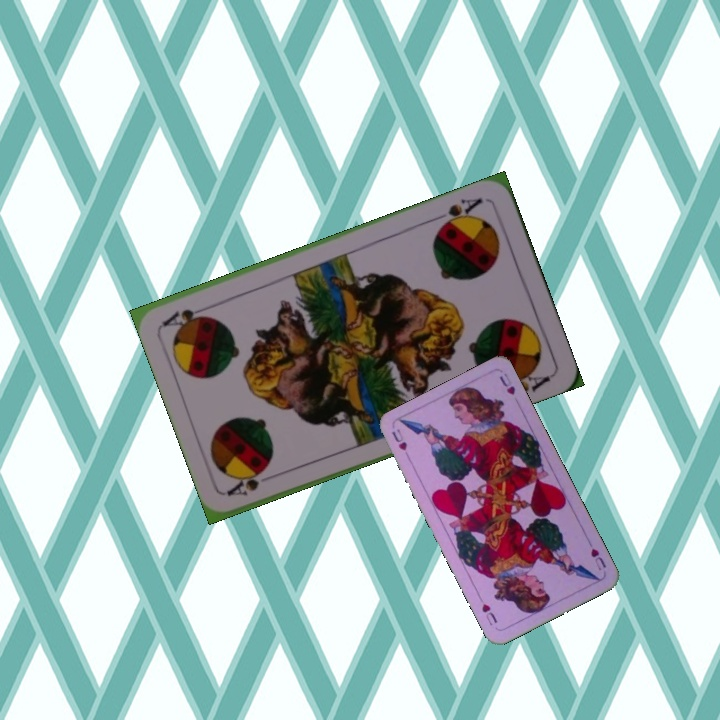HU: (388, 425, 413, 463), (586, 544, 609, 573)
SA: (435, 194, 486, 231), (223, 465, 270, 499)
